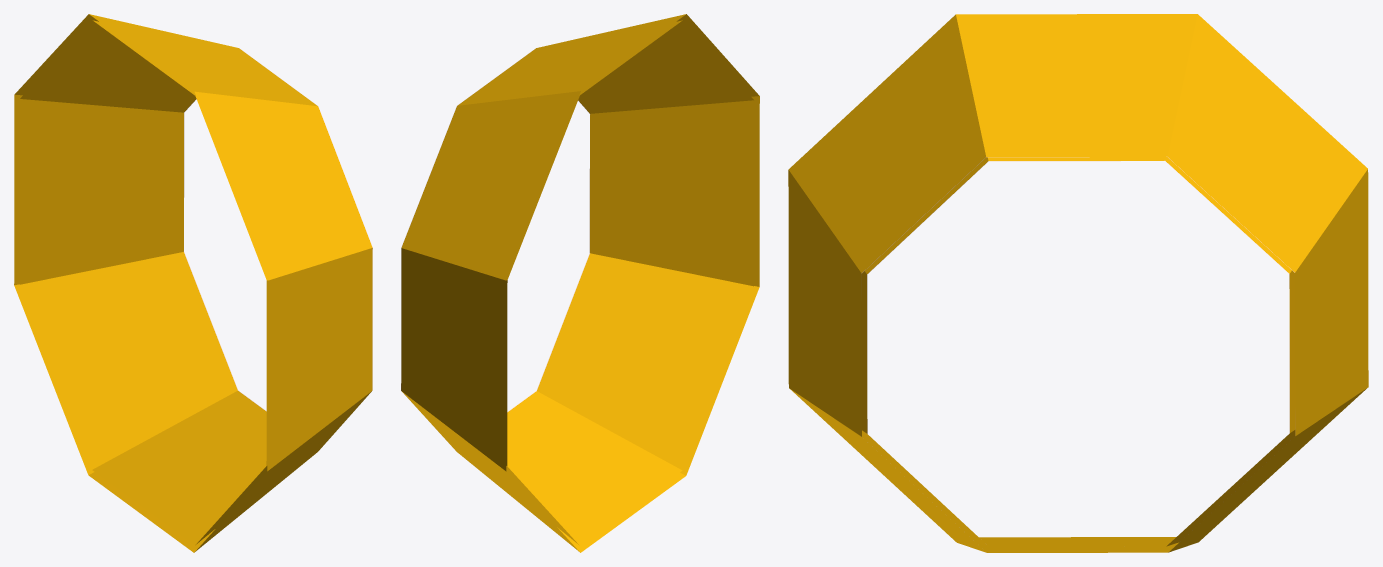
File: m_coloniusLory_FakeLight.fbx
The picture shows the model from 3 angles, left to right: view 1: azimuth 30°, elevation 25°; view 2: azimuth 150°, elevation 25°; view 3: azimuth 270°, elevation 25°; orthographic projection. The views are drawn at different scales.
Parts seen in each view (by area): view 1: m_coloniusLory_FakeLight; view 2: m_coloniusLory_FakeLight; view 3: m_coloniusLory_FakeLight.
Boxes of the visible parts, bbox=[...] form: m_coloniusLory_FakeLight: bbox=[14, 14, 372, 552]; m_coloniusLory_FakeLight: bbox=[401, 14, 759, 552]; m_coloniusLory_FakeLight: bbox=[788, 14, 1368, 552].
Bounding box in the file's own units: 37.7 × 121 × 121.
